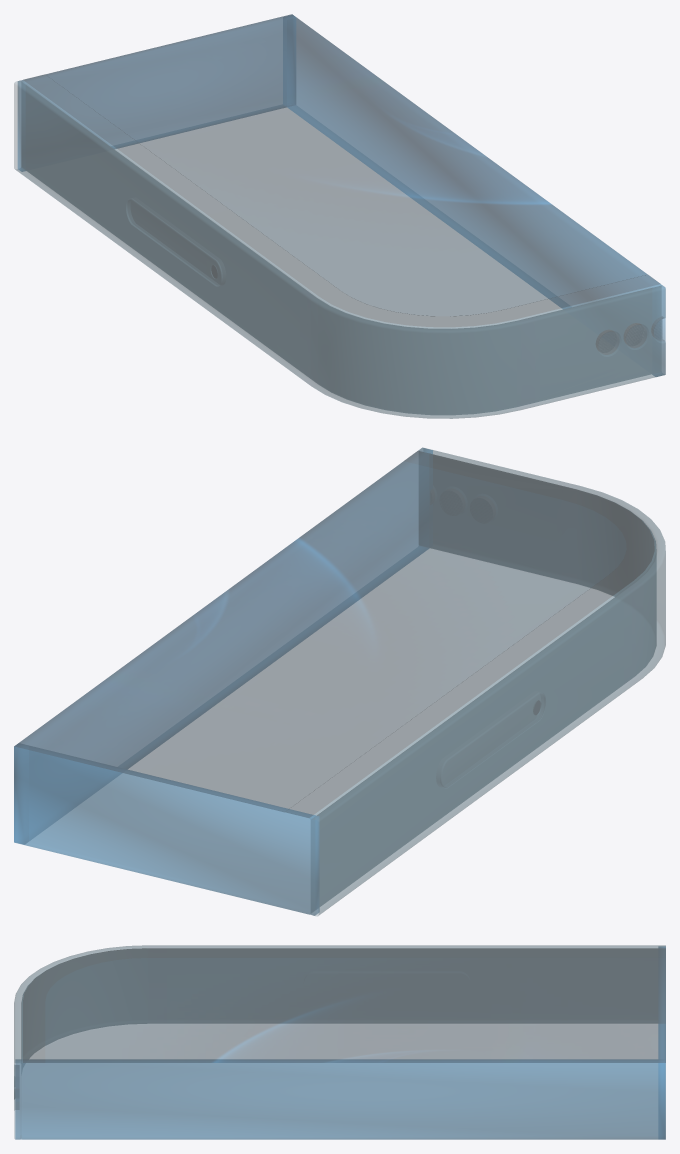
3 views of the same model, one above another, from view 1: azimuth 30°, elevation 25°; view 2: azimuth 150°, elevation 25°; view 3: azimuth 270°, elevation 25° (orthographic). The views are drawn at different scales.
Parts seen in each view (by area): view 1: Apple_Logo_Logo_0, Box007, Box006; view 2: Apple_Logo_Logo_0, Box007, Box006; view 3: Apple_Logo_Logo_0, Box007, Box006.
Part boxes in pixels (x1,y1,x2,y2): Apple_Logo_Logo_0: (14,14,665,418); Box007: (283,15,665,376); Box006: (18,14,295,171); Apple_Logo_Logo_0: (15,448,665,915); Box007: (14,448,432,844); Box006: (14,743,319,915); Apple_Logo_Logo_0: (14,945,665,1138); Box007: (15,1059,664,1139); Box006: (658,946,665,1139).
Size of the model in its own units: 45.2 by 13.66 by 105.
9 materials, 2 textured.
